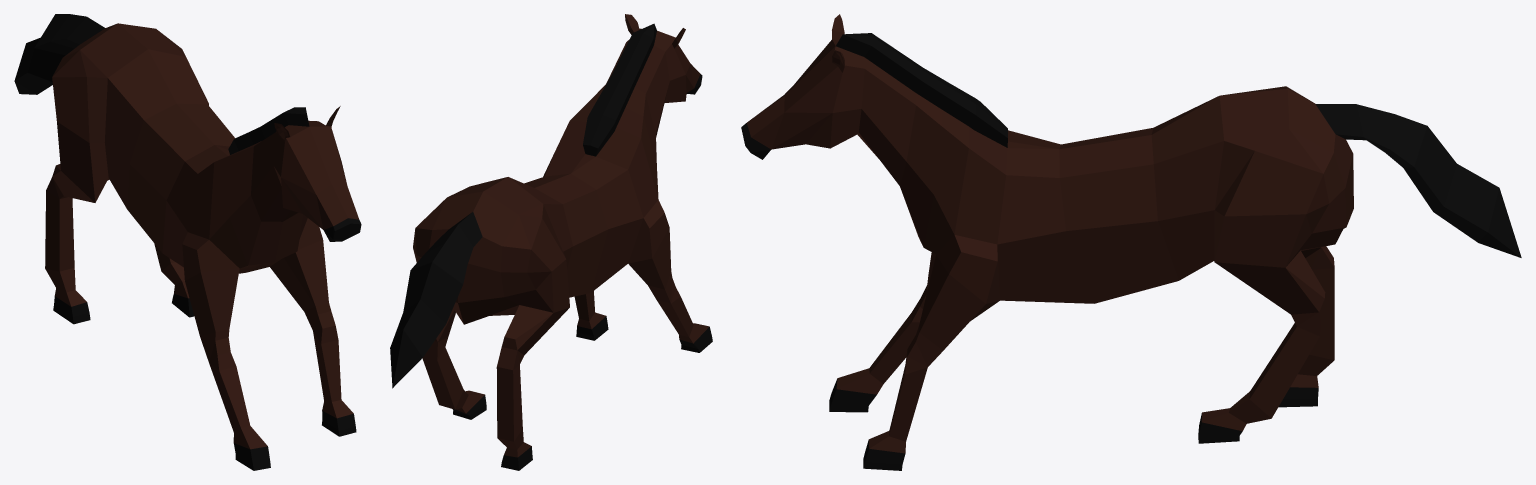
File: Horse_000026.obj
The picture shows the model from 3 angles, left to right: view 1: azimuth 30°, elevation 25°; view 2: azimuth 150°, elevation 25°; view 3: azimuth 270°, elevation 25°; orthographic projection. The views are drawn at different scales.
Parts seen in each view (by area): view 1: Horse_Cylinder; view 2: Horse_Cylinder; view 3: Horse_Cylinder.
Boxes of the visible parts, x1=… form: Horse_Cylinder: x1=14, y1=14, x2=361, y2=470; Horse_Cylinder: x1=390, y1=14, x2=712, y2=470; Horse_Cylinder: x1=741, y1=14, x2=1521, y2=470.
Bounding box in the file's own units: 2.55 × 6.05 × 10.61.
